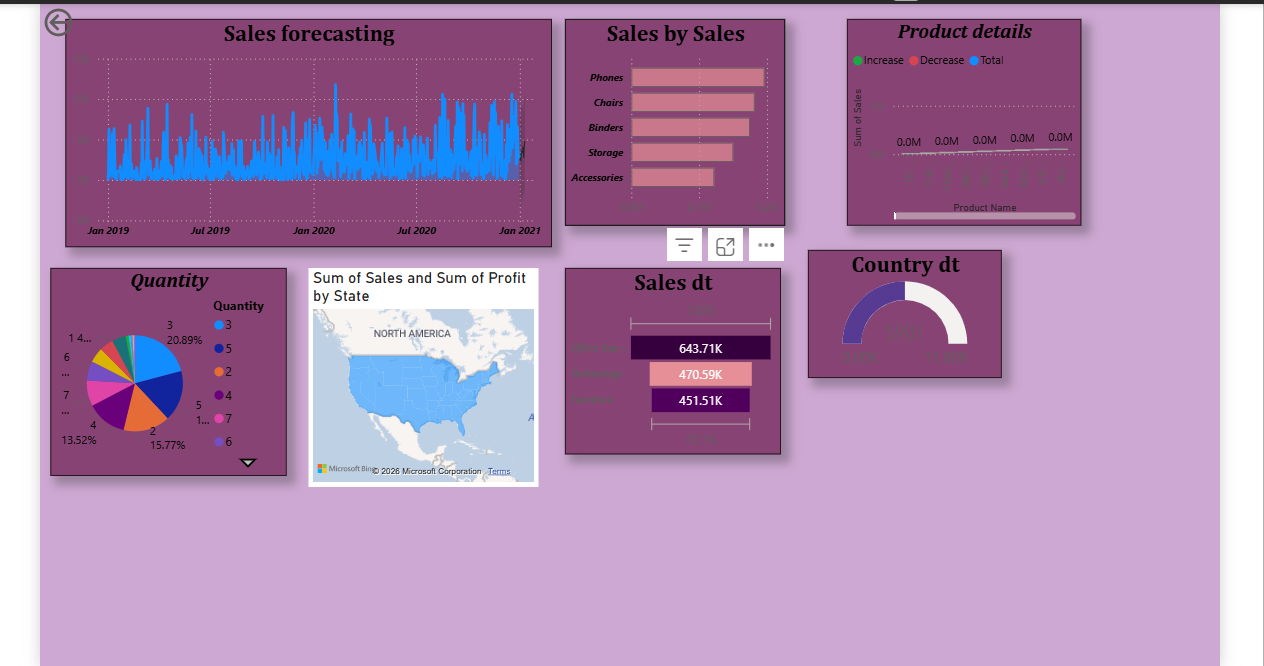

Layout of this report page (visuals, bound fields, positions):
{"tool":"powerbi","page":{"name":"Page 2","canvas":[1280,720],"ordinal":1},"visuals":[{"type":"lineChart","title":"Sales forecasting","fields":{"Y":["Sum(SuperStore_Sales_Dataset.Sales)"],"Category":["SuperStore_Sales_Dataset.Order Date"]},"box":[27.1,16.9,527.1,247.5],"z":0},{"type":"clusteredBarChart","title":"Sales by Sales","fields":{"Category":["SuperStore_Sales_Dataset.Sub-Category"],"Y":["Sum(SuperStore_Sales_Dataset.Sales)"]},"box":[569.5,16.9,239,223.7],"z":1000},{"type":"pieChart","title":"Quantity","fields":{"Y":["Sum(SuperStore_Sales_Dataset.Sales)"],"Category":["SuperStore_Sales_Dataset.Quantity"]},"box":[11.9,286.4,255.9,225.4],"z":2000},{"type":"waterfallChart","title":"Product details","fields":{"Y":["Sum(SuperStore_Sales_Dataset.Sales)"],"Category":["SuperStore_Sales_Dataset.Product Name"]},"box":[874.6,16.9,254.2,223.7],"z":3000},{"type":"funnel","title":"Sales dt","fields":{"Category":["SuperStore_Sales_Dataset.Category"],"Y":["Sum(SuperStore_Sales_Dataset.Sales)"]},"box":[569.5,286.4,233.9,201.7],"z":4000},{"type":"filledMap","fields":{"Category":["SuperStore_Sales_Dataset.State"]},"box":[291.5,286.4,249.2,237.3],"z":5000},{"type":"gauge","title":"Country dt","fields":{"Y":["CountNonNull(SuperStore_Sales_Dataset.Country)"]},"box":[832.2,266.1,210.2,139],"z":6000},{"type":"actionButton","box":[0,0,100,40],"z":7000}]}

Visuals, with their boxes in screenshot pixels (x1, y1, x2, y2):
"Sales forecasting" lineChart: [x1=67, y1=0, x2=548, y2=224]
"Sales by Sales" clusteredBarChart: [x1=561, y1=0, x2=779, y2=203]
"Quantity" pieChart: [x1=54, y1=244, x2=287, y2=450]
"Product details" waterfallChart: [x1=839, y1=0, x2=1071, y2=203]
"Sales dt" funnel: [x1=561, y1=244, x2=774, y2=428]
filledMap - SuperStore_Sales_Dataset.State: [x1=308, y1=244, x2=535, y2=460]
"Country dt" gauge: [x1=801, y1=226, x2=992, y2=352]
actionButton: [x1=43, y1=0, x2=134, y2=20]
